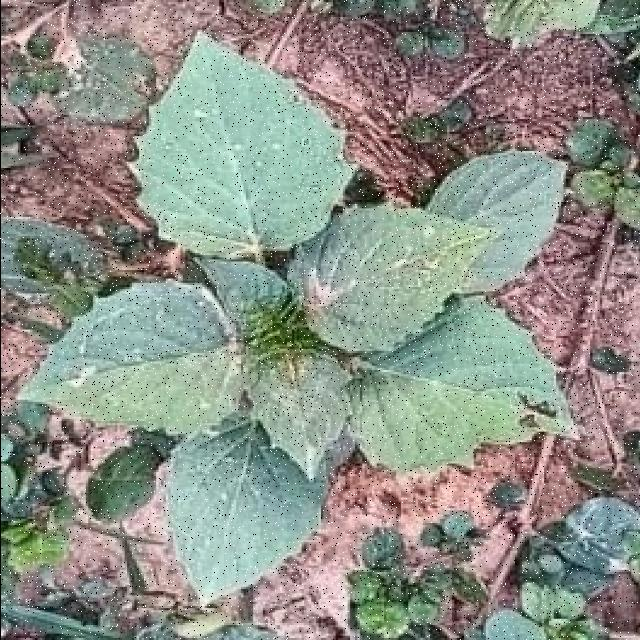weed: (18, 32, 575, 604)
